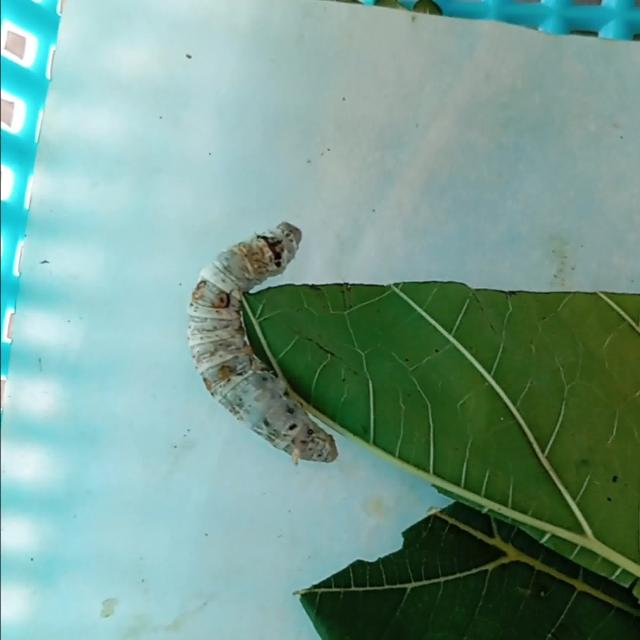Grasserie: (170, 203, 369, 470)
